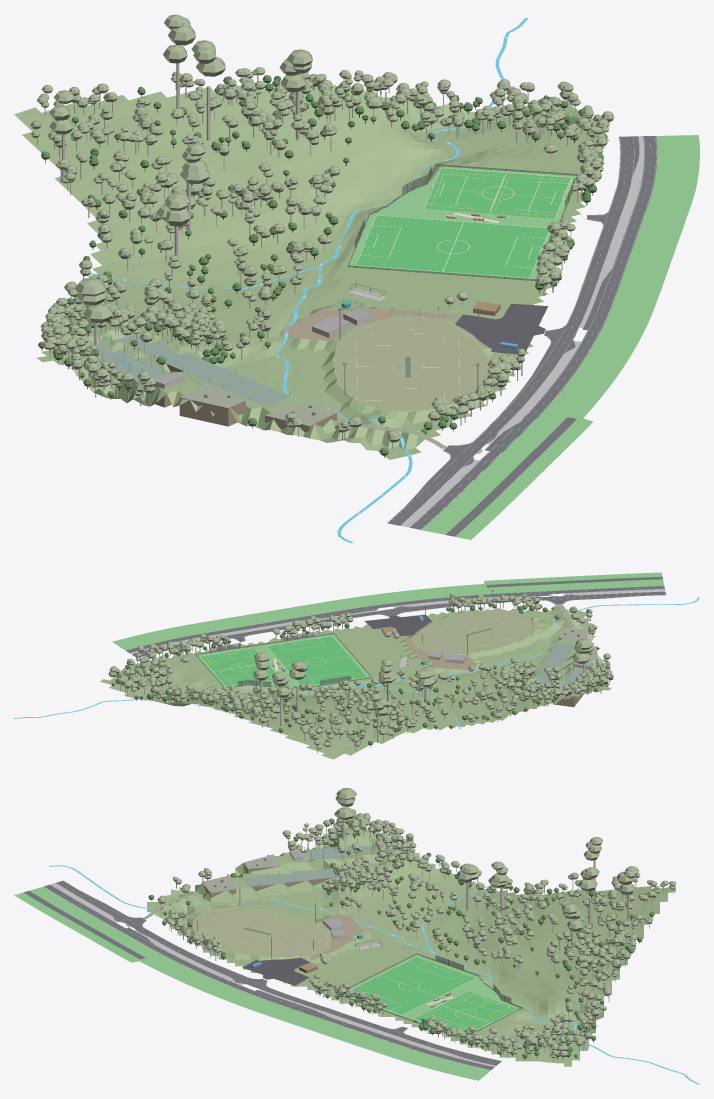
File: KHFR_stage1_winter.glb
3 renders of one model, top to bottom at view 1: azimuth 30°, elevation 25°; view 2: azimuth 150°, elevation 25°; view 3: azimuth 270°, elevation 25°, orthographic. The views are drawn at different scales.
Visible parts, largest first — view 1: Reserve terrain, Bushland forest (euc_can), Road reserve (far verge), Bush planting zones (euc_can), Existing Ground 1 (worn turf), Pitch 3, Swansea Rd NE-bound (surveyed both edges), Giant eucalypts (canopies), Pitch 4, Swansea Rd SW-bound (2 lanes, smooth), Tennis precinct bush retained (euc_can), Bushland forest (wat_can) (+17 smaller); view 2: Reserve terrain, Bushland forest (euc_can), Road reserve (far verge), Bush planting zones (euc_can), Existing Ground 1 (worn turf), Pitch 3, Giant eucalypts (canopies), Swansea Rd SW-bound (2 lanes, smooth), Tennis precinct bush retained (euc_can), Swansea Rd NE-bound (surveyed both edges), Pitch 4, field N flatgrass (+11 smaller); view 3: Reserve terrain, Bushland forest (euc_can), Road reserve (far verge), Bush planting zones (euc_can), Existing Ground 1 (worn turf), Pitch 3, Swansea Rd NE-bound (surveyed both edges), Tennis precinct bush retained (euc_can), Giant eucalypts (canopies), Swansea Rd SW-bound (2 lanes, smooth), Pitch 4, Bushland forest (wat_can) (+12 smaller).
Boxes of the visible parts, x1,y1,x2,y2 form: Reserve terrain: (14, 85, 609, 459); Bushland forest (euc_can): (30, 71, 400, 442); Road reserve (far verge): (421, 135, 699, 539); Bush planting zones (euc_can): (216, 67, 614, 416); Existing Ground 1 (worn turf): (334, 317, 490, 411); Pitch 3: (356, 215, 548, 278); Swansea Rd NE-bound (surveyed both edges): (387, 136, 639, 525); Giant eucalypts (canopies): (49, 14, 312, 323); Pitch 4: (424, 168, 570, 218); Swansea Rd SW-bound (2 lanes, smooth): (409, 136, 657, 529); Tennis precinct bush retained (euc_can): (40, 296, 233, 387); Bushland forest (wat_can): (41, 83, 388, 455); Reserve terrain: (100, 605, 611, 759); Bushland forest (euc_can): (198, 606, 611, 749); Road reserve (far verge): (112, 572, 664, 650); Bush planting zones (euc_can): (108, 593, 540, 716); Existing Ground 1 (worn turf): (412, 610, 538, 653); Pitch 3: (267, 636, 366, 685); Giant eucalypts (canopies): (253, 638, 593, 715); Swansea Rd SW-bound (2 lanes, smooth): (126, 586, 664, 652); Tennis precinct bush retained (euc_can): (495, 661, 613, 703); Swansea Rd NE-bound (surveyed both edges): (131, 591, 666, 657); Pitch 4: (200, 648, 275, 686); field N flatgrass: (196, 634, 371, 687); Reserve terrain: (147, 824, 675, 1066); Bushland forest (euc_can): (157, 817, 676, 980); Road reserve (far verge): (14, 886, 490, 1080); Bush planting zones (euc_can): (166, 909, 637, 1057); Existing Ground 1 (worn turf): (192, 908, 327, 957); Pitch 3: (352, 957, 475, 1014); Swansea Rd NE-bound (surveyed both edges): (56, 880, 501, 1065); Tennis precinct bush retained (euc_can): (295, 809, 416, 888); Giant eucalypts (canopies): (335, 788, 639, 931); Swansea Rd SW-bound (2 lanes, smooth): (43, 884, 494, 1069); Pitch 4: (414, 991, 517, 1031); Bushland forest (wat_can): (148, 820, 654, 979).
Size of the model in its own units: 495 by 86.34 by 599.
